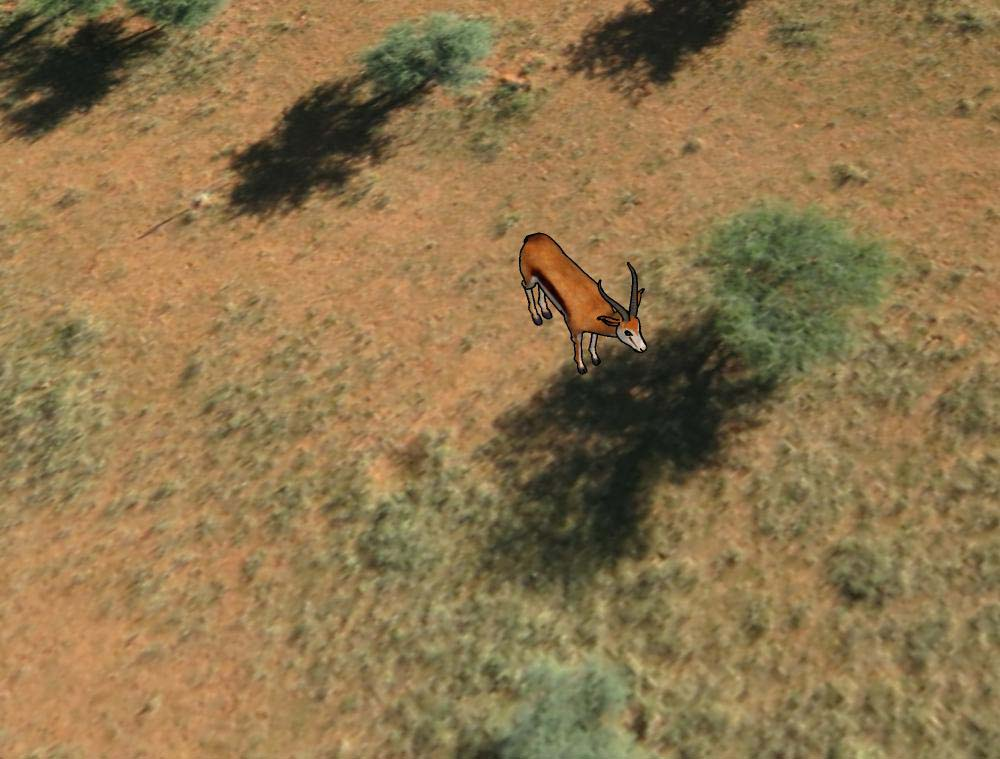springbok: (511, 224, 657, 378)
